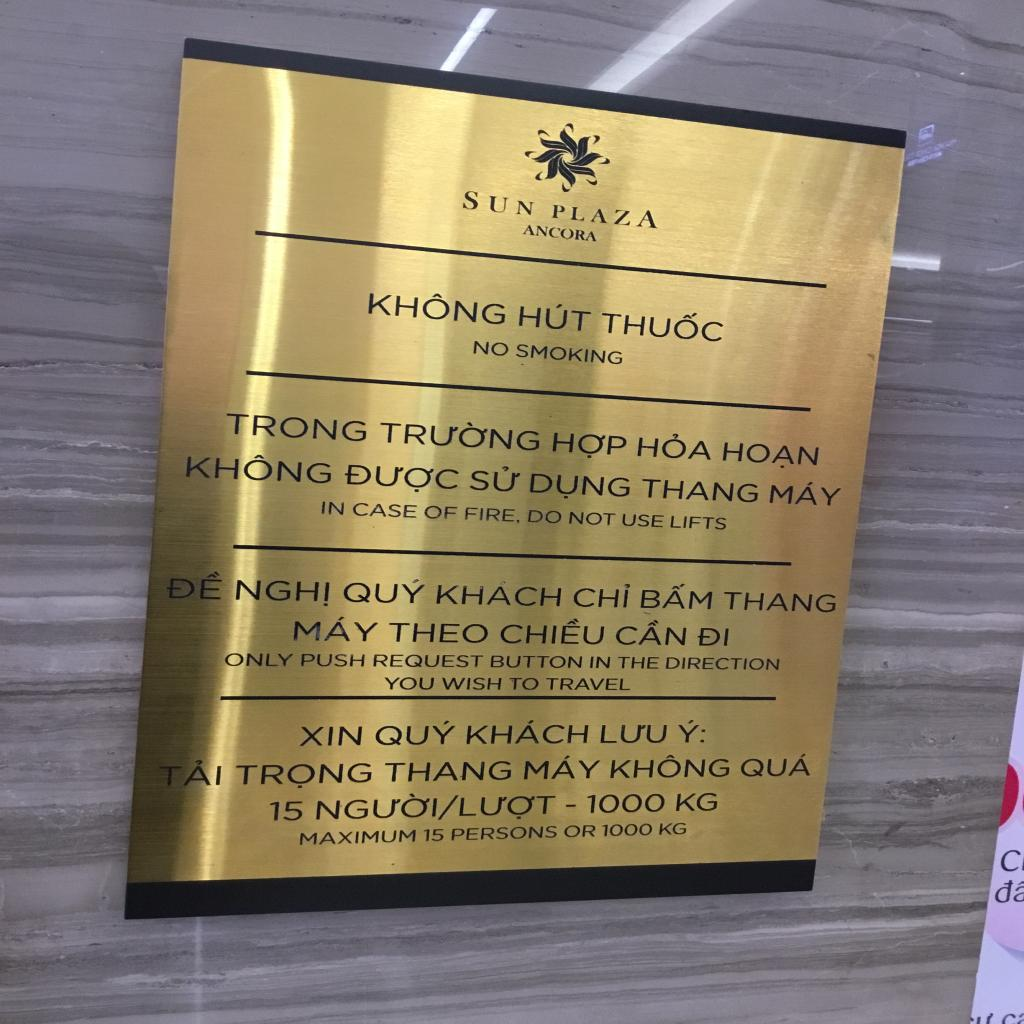text: (554, 360, 604, 486), (381, 387, 437, 495), (600, 517, 646, 631), (548, 491, 591, 600), (410, 224, 456, 321), (618, 422, 661, 513), (772, 345, 810, 442), (636, 198, 672, 290), (630, 293, 670, 373), (960, 325, 994, 419), (822, 313, 860, 394), (590, 152, 628, 228), (272, 272, 306, 356), (773, 520, 811, 594), (456, 298, 488, 382), (820, 478, 857, 549), (789, 139, 818, 227), (575, 233, 617, 293), (770, 446, 807, 512), (641, 130, 678, 195), (575, 296, 614, 356), (829, 400, 859, 478), (402, 324, 443, 381), (960, 422, 995, 488), (777, 232, 814, 289), (825, 251, 862, 308), (758, 600, 801, 644), (253, 368, 288, 422), (1005, 219, 1024, 311), (619, 375, 658, 418), (776, 294, 811, 340), (872, 405, 891, 489), (876, 182, 894, 269), (300, 319, 324, 378), (966, 266, 992, 318), (873, 330, 892, 400), (969, 496, 996, 544), (675, 375, 701, 421), (670, 453, 692, 504), (904, 294, 921, 360), (870, 546, 890, 600), (1004, 159, 1024, 213), (1007, 314, 1024, 376), (1014, 384, 1024, 481), (686, 222, 708, 266), (871, 494, 890, 543), (903, 391, 921, 438), (453, 385, 478, 416), (960, 238, 992, 262), (682, 304, 702, 342), (1017, 488, 1024, 592), (684, 269, 705, 303), (903, 442, 920, 481), (836, 221, 862, 246), (674, 424, 696, 451), (876, 273, 893, 306), (679, 346, 699, 374), (1013, 601, 1024, 651), (670, 507, 690, 529), (903, 363, 921, 387), (875, 310, 892, 326)
